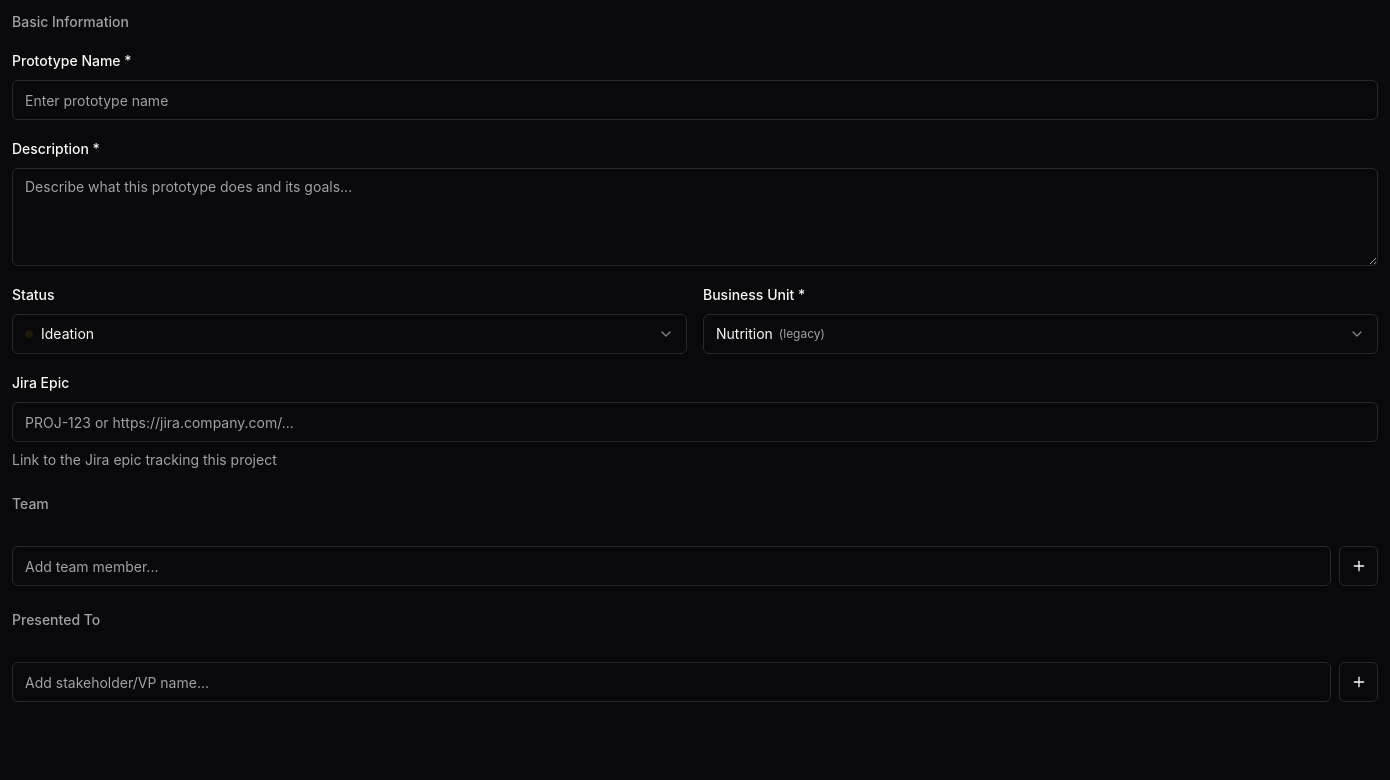
Test: PrototypeSheet Business Unit selector › keeps a legacy stored value visible and selectable, marked subtly
Click the dropdown labelled "Nutrition (legacy)" at (744, 334), box [703, 314, 1378, 354]
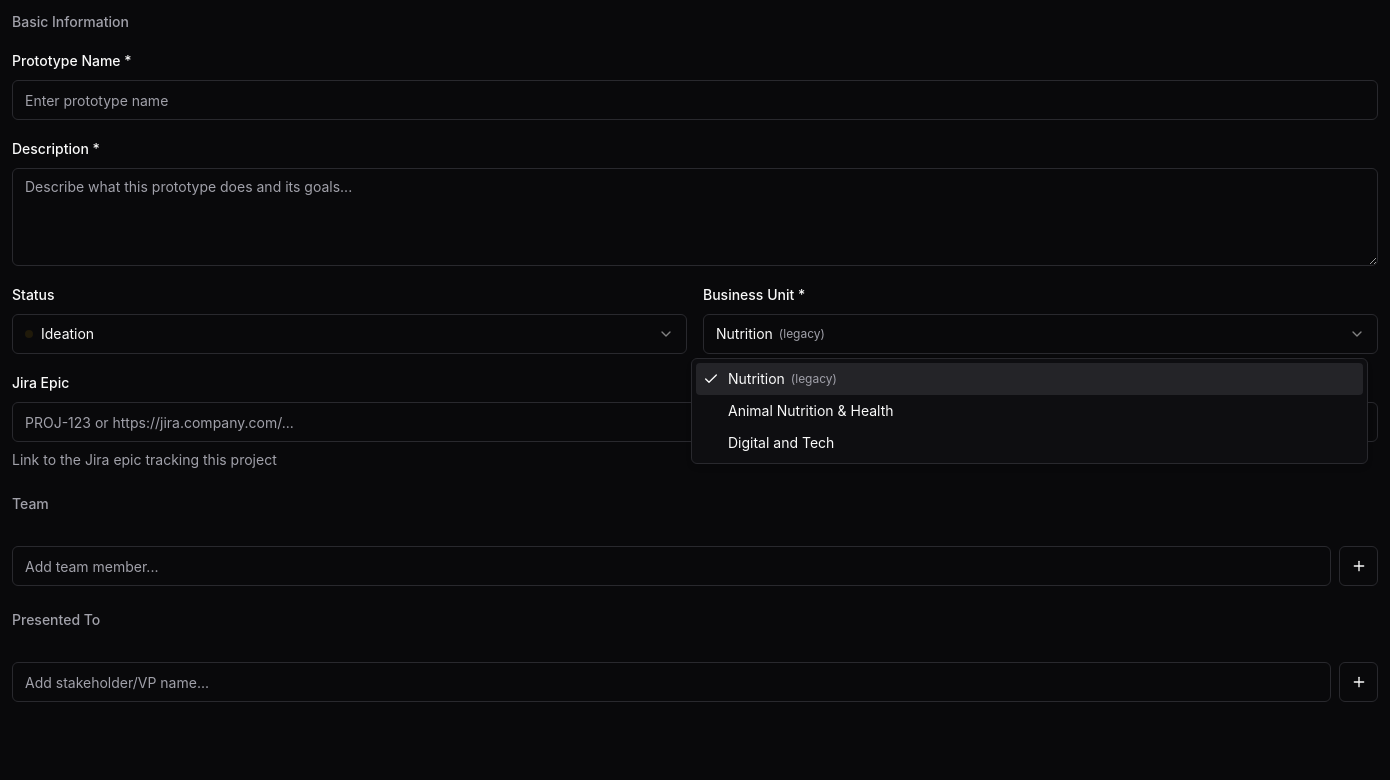
Check: the option "Nutrition (legacy)" is shown, box [696, 363, 1363, 395]
Check: the option "Digital and Tech" is shown
Picking a real org unit still works
Click the option "Digital and Tech" at (781, 442), box [728, 434, 834, 451]
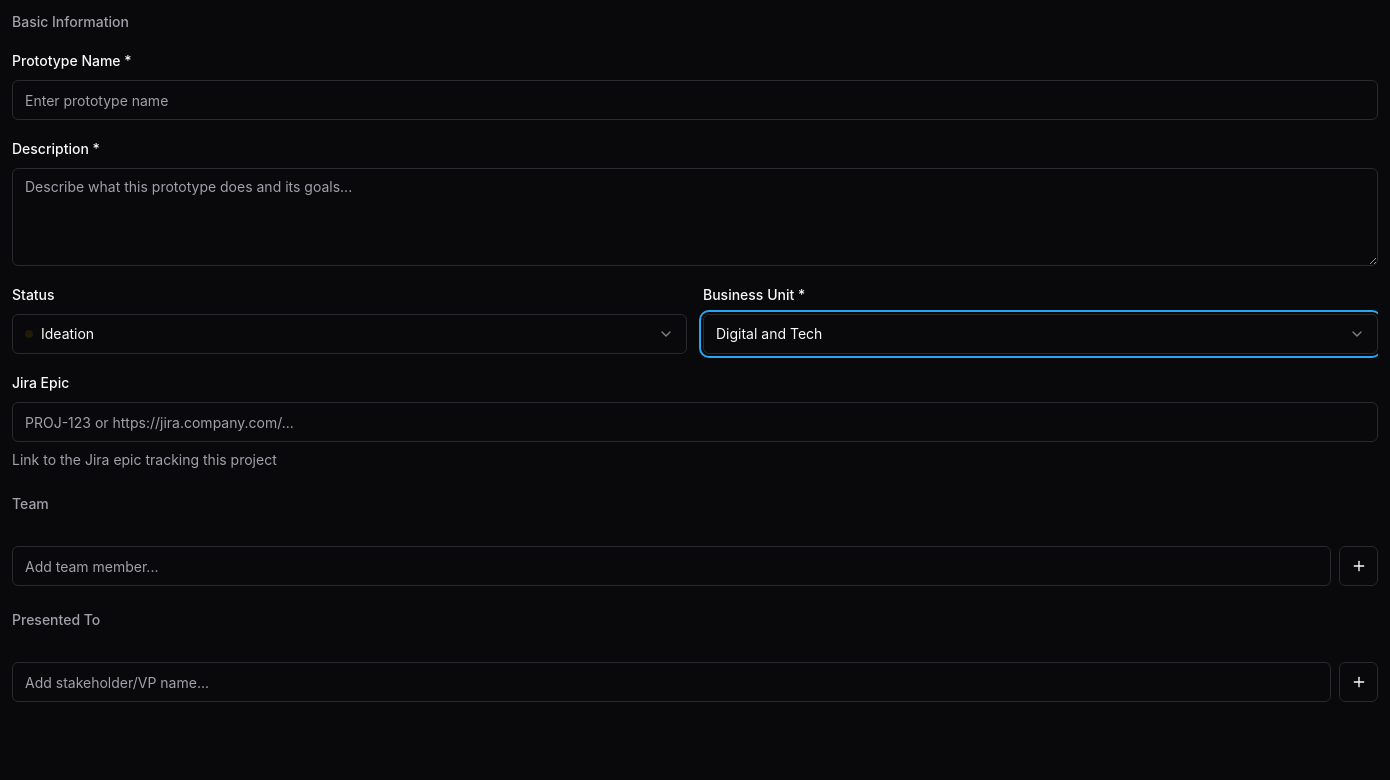
Check: the dropdown labelled "Digital and Tech" is shown, box [703, 314, 1378, 354]
